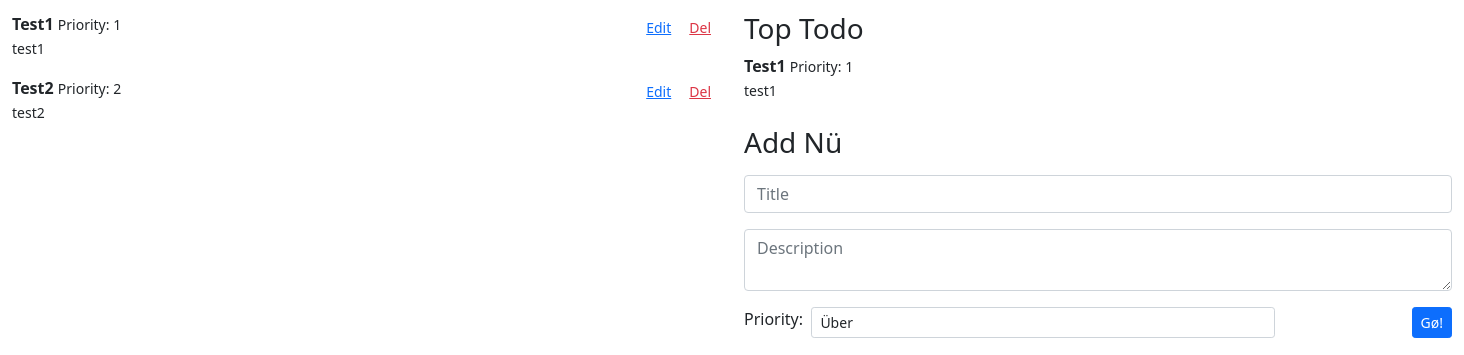
Test case: adds a todo to the EditableTodosList when form submitted
The image size is (1464, 355).
Expected: the number of elements with class "EditableTodo" is 2, [12,12,720,60]; [12,76,720,124]
Type "Test3" into the field named "title" at (1098, 194), box [744,175,1452,213]
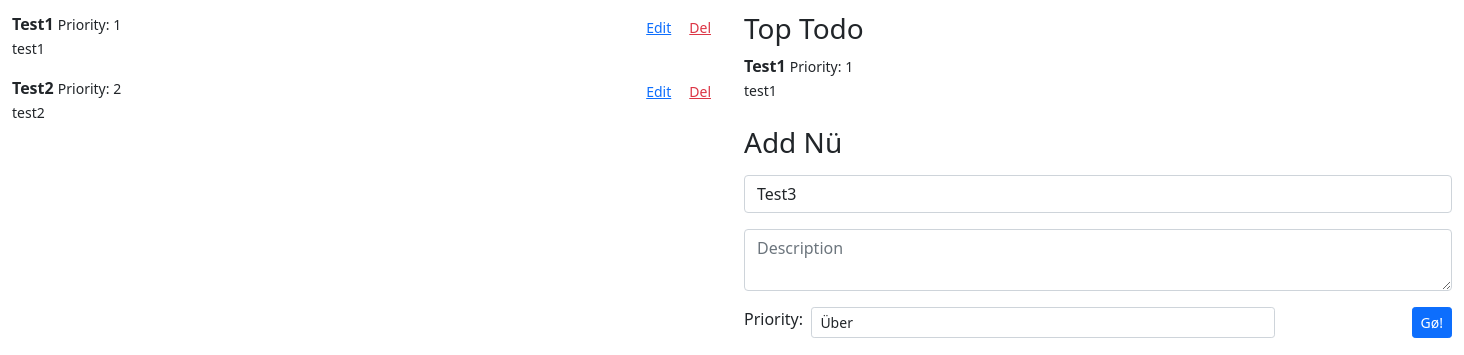
Type "test3" into the text box named "description" at (1098, 260), box [744,229,1452,291]
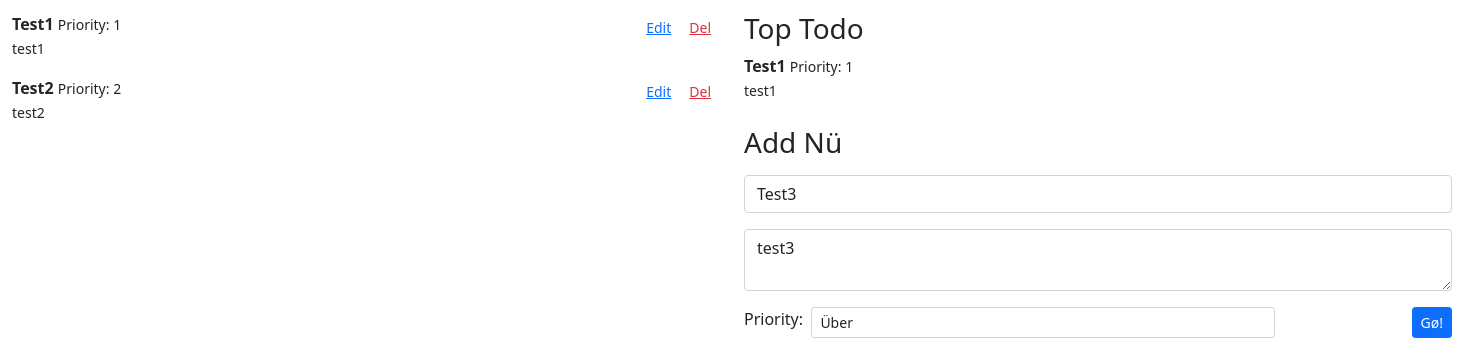
Select "Meh" in the dropdown named "priority" at (1043, 323), box [811,307,1275,338]
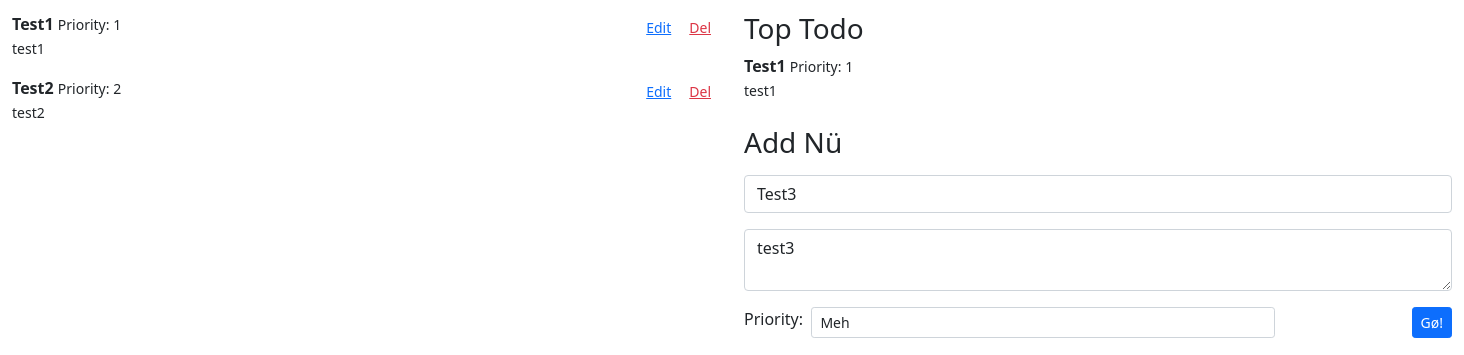
Click the button with class "NewTodoForm-addBtn" at (1432, 323), box [1412,307,1452,338]
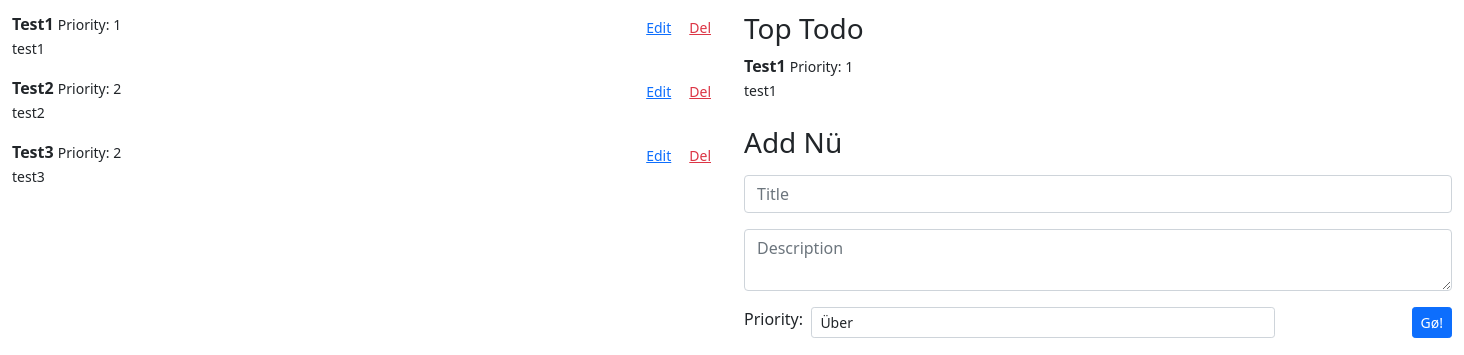
Now the number of elements with class "EditableTodo" is 3, box [12,12,720,60]; [12,76,720,124]; [12,140,720,188]
